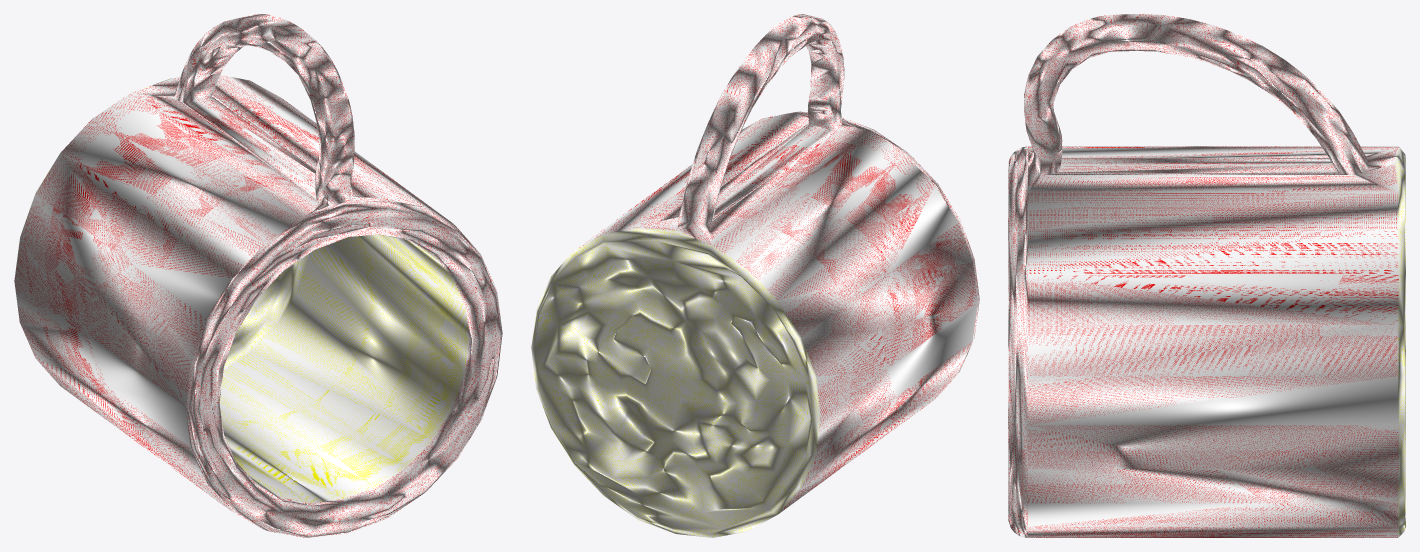
The model's file is model_align.obj.
The picture shows the model from 3 angles, left to right: view 1: azimuth 30°, elevation 25°; view 2: azimuth 150°, elevation 25°; view 3: azimuth 270°, elevation 25°; orthographic projection. The views are drawn at different scales.
Bounding box in the file's own units: 0.0969 × 0.1366 × 0.0981.
